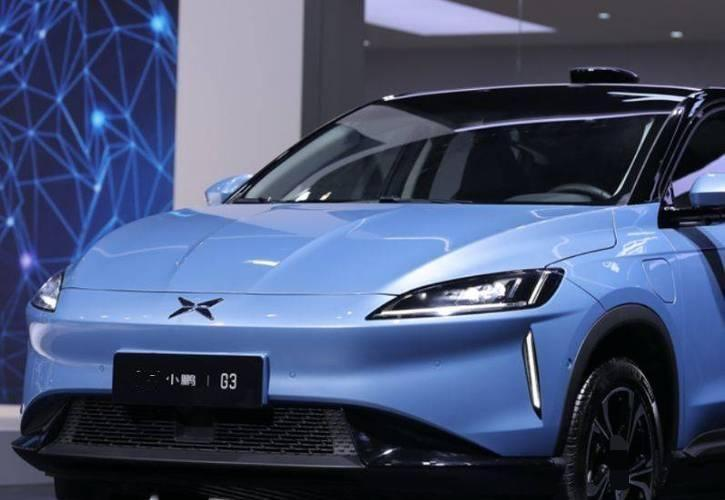XPeng Motors: (169, 297, 223, 320)
